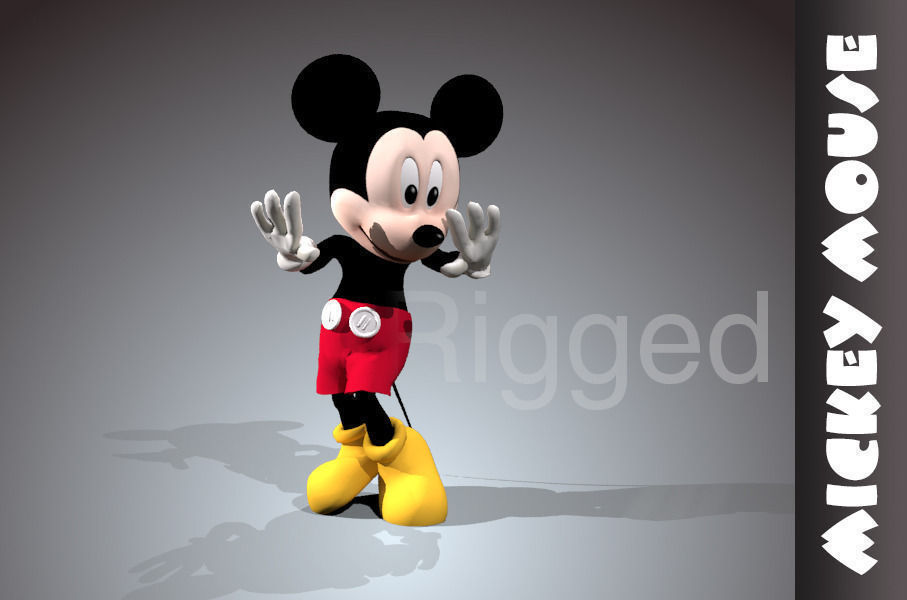Mickey: (283, 48, 505, 265)
